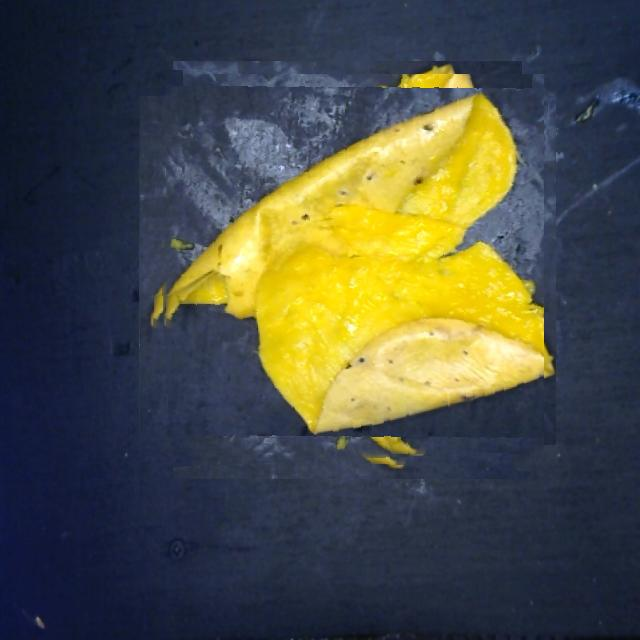biodegradable: (151, 74, 544, 467)
